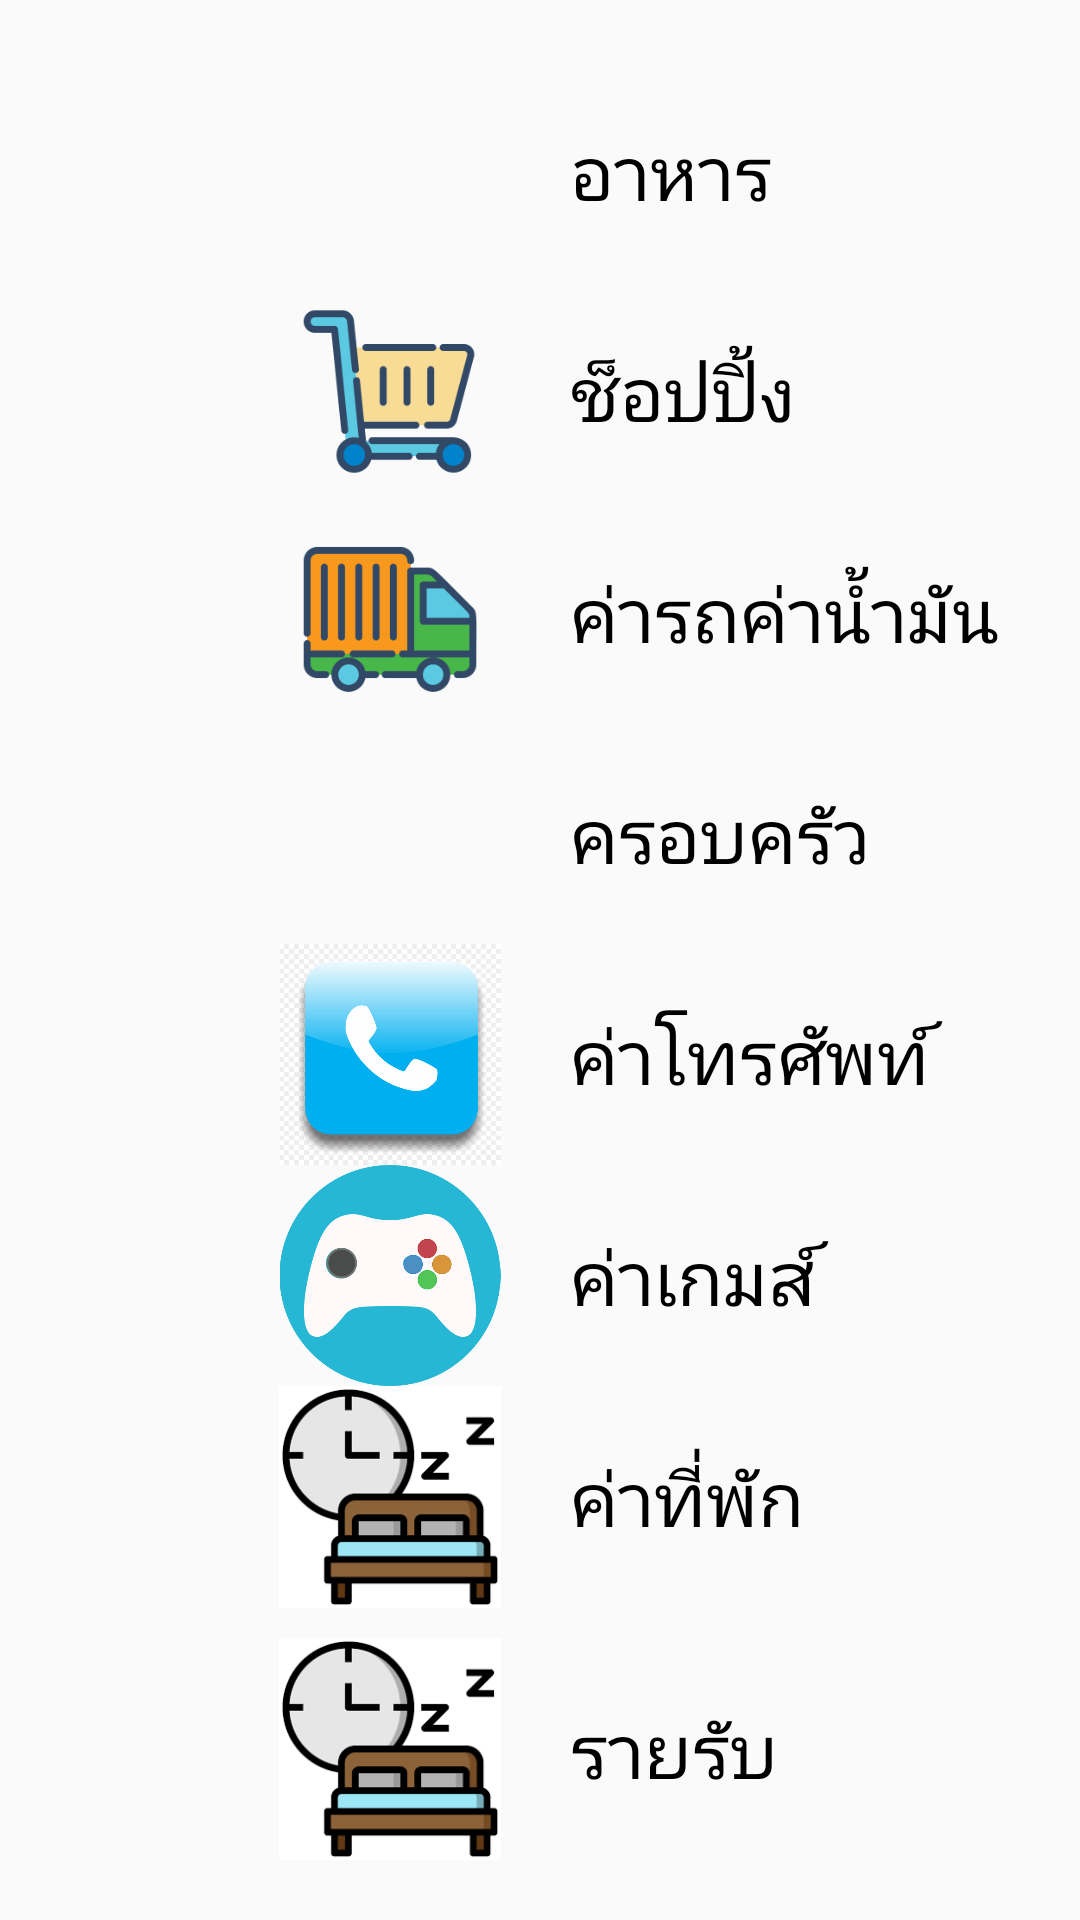

Icons on this 1080x1920 Android screen, each with the point to tap as (x,y):
game: (390,1275)
room: (390,1497), (390,1749)
shop: (389,391)
telephot: (391,1059)
